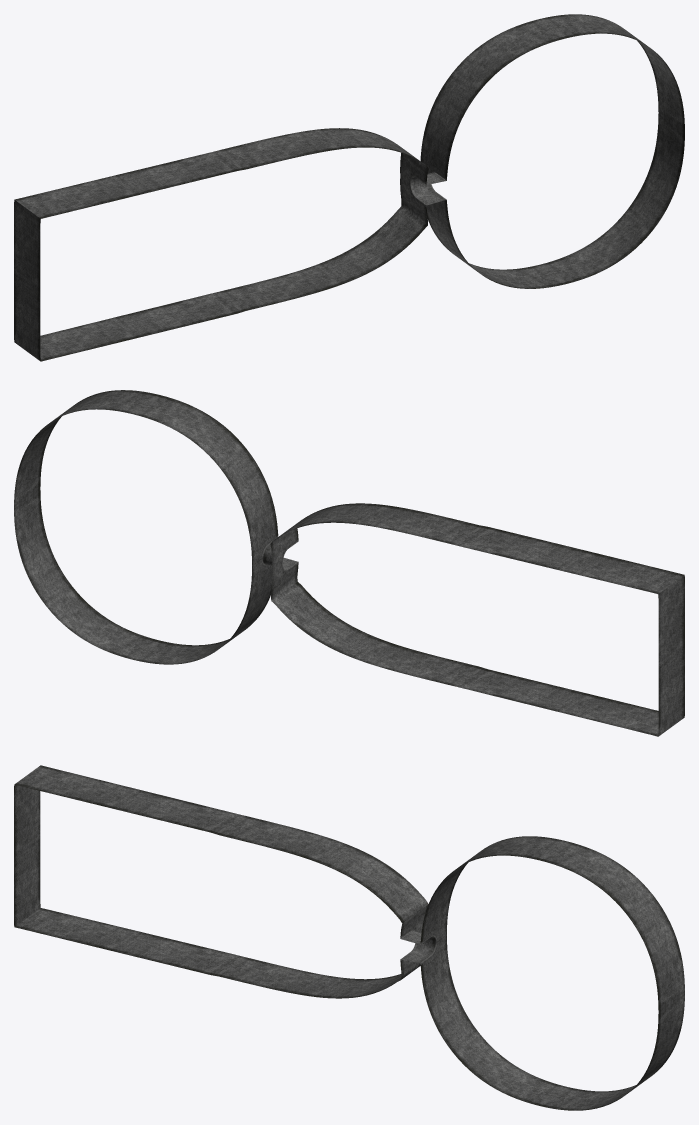
Rendered from InvisibleWall.gltf.
3 views of the same model, one above another, from view 1: azimuth 30°, elevation 25°; view 2: azimuth 150°, elevation 25°; view 3: azimuth 330°, elevation 25° (orthographic).
Visible parts, largest first — view 1: Castle_Wall_A_Bend; view 2: Castle_Wall_A_Bend; view 3: Castle_Wall_A_Bend.
Boxes of the visible parts, bbox=[...] form: Castle_Wall_A_Bend: bbox=[14, 14, 684, 361]; Castle_Wall_A_Bend: bbox=[14, 390, 684, 736]; Castle_Wall_A_Bend: bbox=[14, 765, 684, 1110].
Size of the model in its own units: 2171 by 791 by 157.
3 materials, 3 textured.
